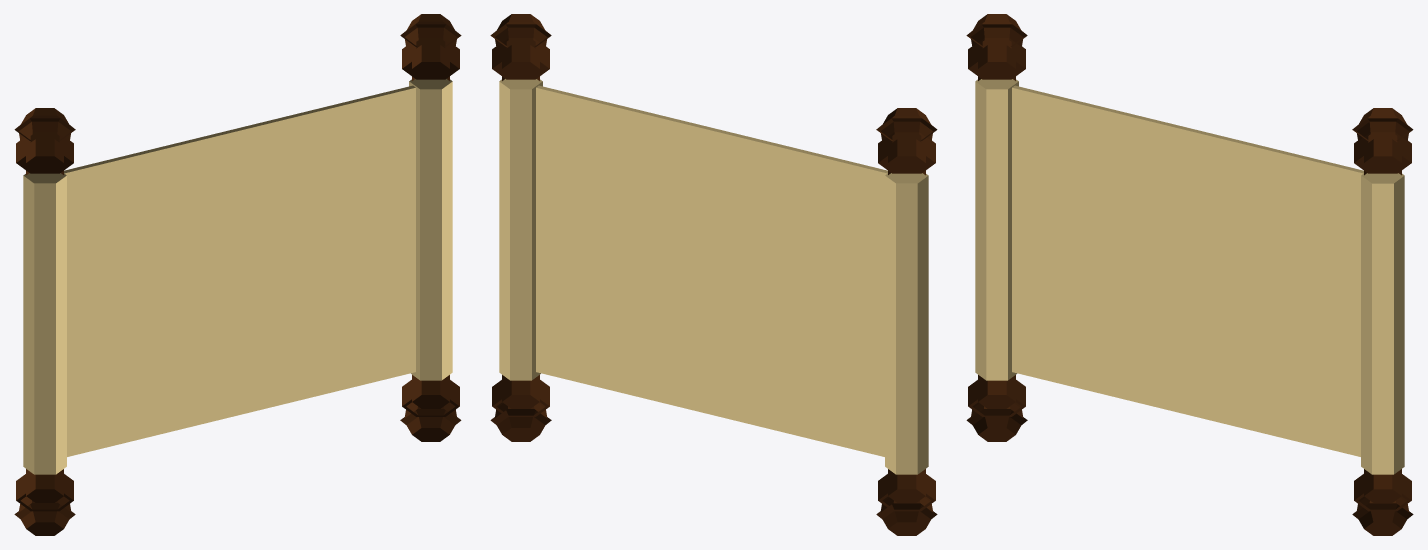
File: Openned Scroll.fbx
3 views of the same model, side by side, from view 1: azimuth 30°, elevation 25°; view 2: azimuth 150°, elevation 25°; view 3: azimuth 330°, elevation 25° (orthographic).
Parts seen in each view (by area): view 1: Node 0; view 2: Node 0; view 3: Node 0.
Part boxes in pixels (x1,y1,x2,y2): Node 0: (14,14,461,535); Node 0: (490,14,937,535); Node 0: (966,14,1413,535).
Bounding box in the file's own units: 0.1259 × 0.9354 × 1.02.
